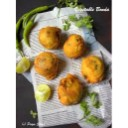bonda: (34, 51, 59, 78), (83, 57, 105, 83), (58, 82, 81, 106), (40, 27, 62, 48), (65, 34, 85, 54)
